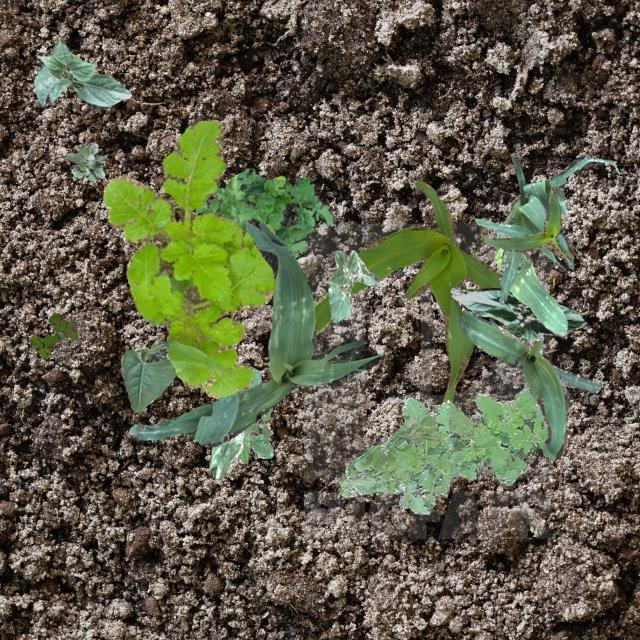crop: (128, 218, 380, 446), (313, 178, 499, 402), (492, 156, 618, 336), (456, 311, 600, 458), (474, 152, 572, 302), (450, 286, 584, 342), (32, 36, 130, 108), (480, 186, 572, 258), (208, 362, 260, 478), (120, 338, 176, 410), (328, 250, 378, 322)
weed: (102, 120, 274, 398), (340, 384, 548, 514), (193, 166, 334, 256), (232, 410, 272, 466), (31, 312, 78, 356), (65, 142, 106, 180)
